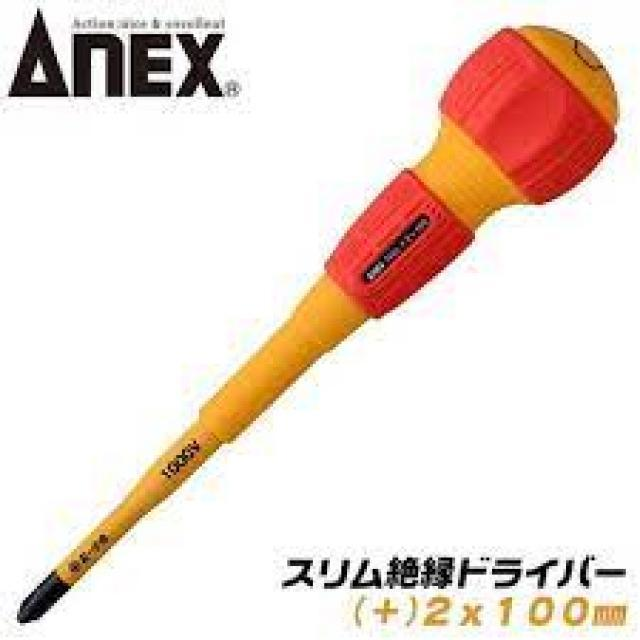screwdriver: (14, 19, 623, 632)
